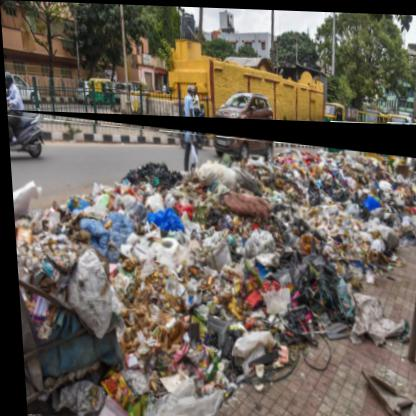Garbage: (6, 111, 416, 416)
